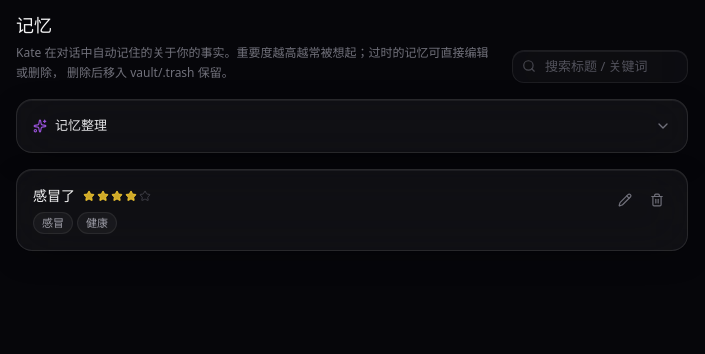
MemoriesPage › 整理面板：展开后显示状态与候选数
Expected: the text "感冒了" is shown, [33,186,75,206]
Click the button "记忆整理". click: [81, 125]
box: [33,116,671,136]
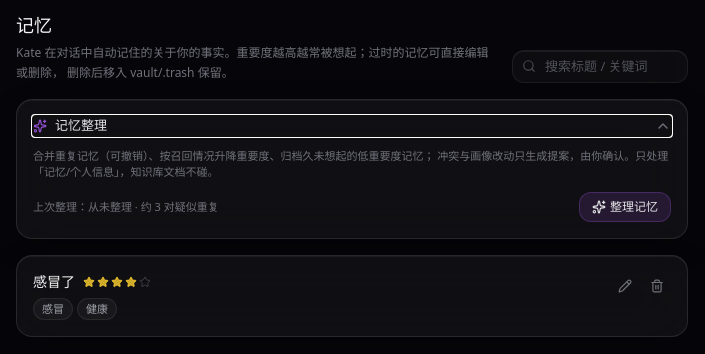
Expected: the text "上次整理：从未整理 · 约 3 对疑似重复" is shown, [33,198,219,214]
